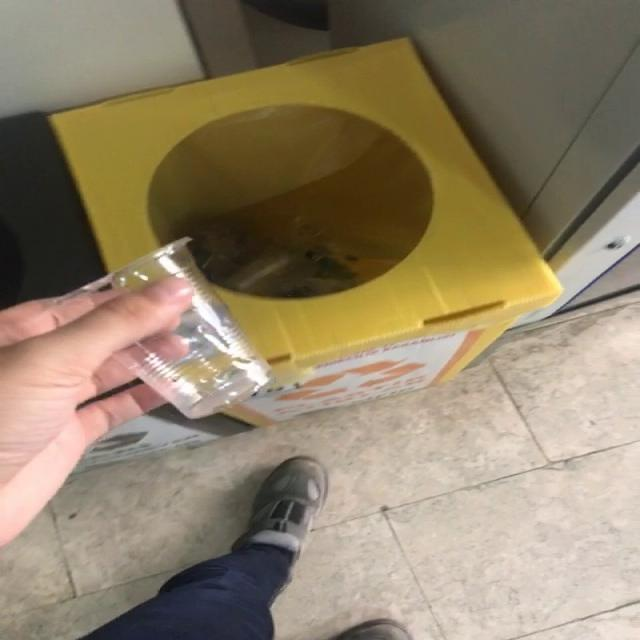plastic: (60, 238, 272, 418)
